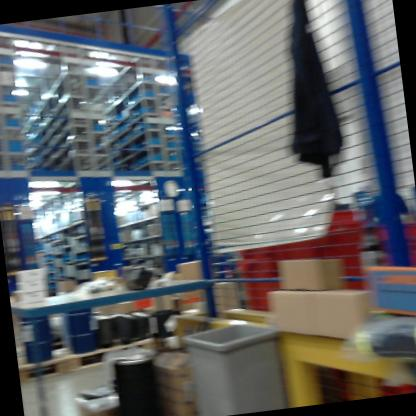small_load_carrier: (269, 210, 378, 286), (235, 251, 292, 322)
